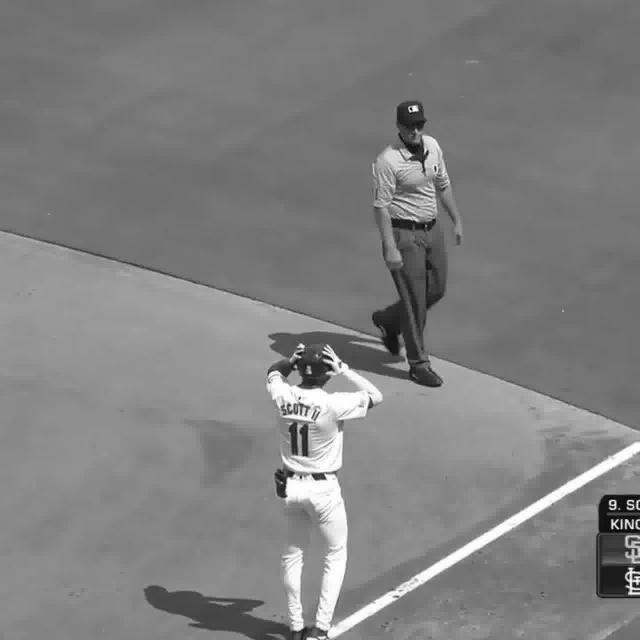shoe: (374, 314, 399, 359), (408, 362, 446, 385), (288, 626, 336, 640)
